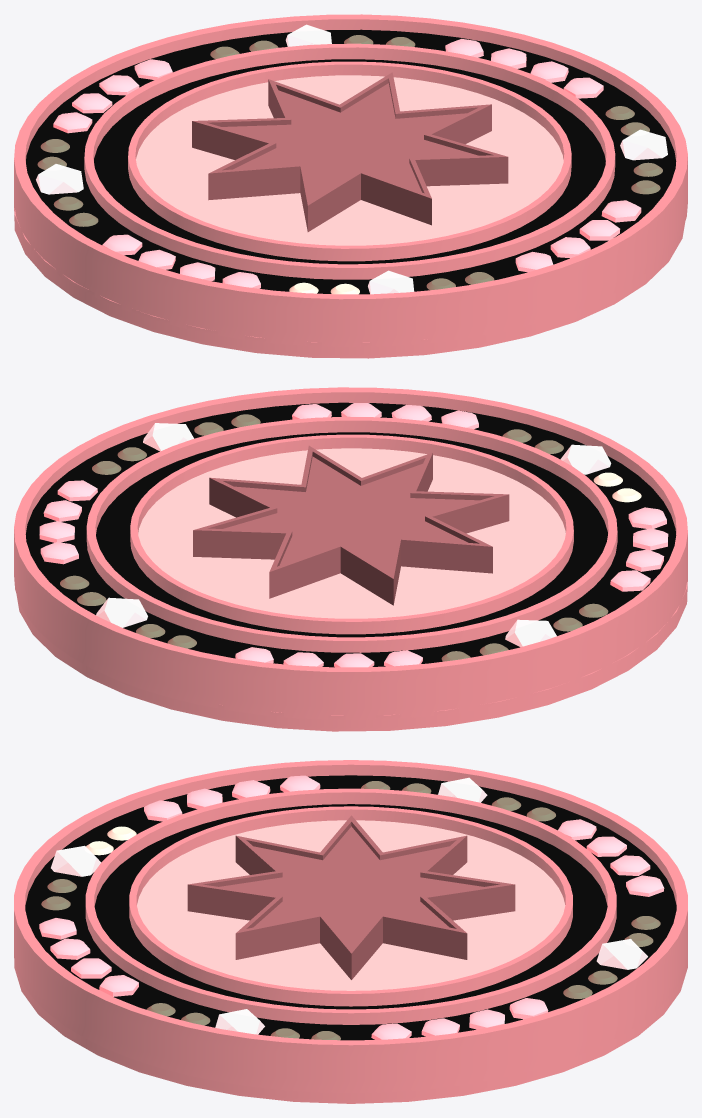
The model's file is coin.gltf.
3 renders of one model, top to bottom at view 1: azimuth 30°, elevation 25°; view 2: azimuth 150°, elevation 25°; view 3: azimuth 270°, elevation 25°, orthographic.
Visible parts, largest first — view 1: Tube (×3), Cylinder, Boolean, 바닥, Cylinder.2, Cube.4, Cube.5, Cube.7, Cube.6, Cylinder.30, Cylinder.29, Cylinder.6 (+11 smaller); view 2: Tube (×3), Cylinder, Boolean, 바닥, Cylinder.2, Cube.6, Cube.7, Cube.5, Cube.4, Cylinder.7, Cylinder.5, Cylinder.10 (+6 smaller); view 3: Tube (×3), Cylinder, Boolean, 바닥, Cylinder.2, Cube.6, Cube.7, Cube.4, Cube.5, Cylinder.30, Cylinder.29, Cylinder.28 (+12 smaller).
Boxes of the visible parts, left/top/right/bottom form: Tube (×3): left=14, top=14, right=687, bottom=346; Cylinder: left=26, top=29, right=676, bottom=294; Boolean: left=192, top=72, right=508, bottom=231; 바닥: left=136, top=75, right=563, bottom=245; Cylinder.2: left=14, top=208, right=685, bottom=358; Cube.4: left=620, top=129, right=667, bottom=160; Cube.5: left=36, top=164, right=83, bottom=194; Cube.7: left=368, top=270, right=414, bottom=294; Cube.6: left=285, top=24, right=331, bottom=46; Cylinder.30: left=601, top=200, right=641, bottom=222; Cylinder.29: left=579, top=220, right=620, bottom=240; Cylinder.6: left=563, top=77, right=603, bottom=98; Tube (×3): left=14, top=387, right=687, bottom=719; Cylinder: left=25, top=402, right=676, bottom=667; Boolean: left=193, top=445, right=509, bottom=605; 바닥: left=138, top=448, right=565, bottom=618; Cylinder.2: left=16, top=581, right=687, bottom=731; Cube.6: left=96, top=597, right=147, bottom=627; Cube.7: left=560, top=444, right=611, bottom=474; Cube.5: left=505, top=619, right=556, bottom=647; Cube.4: left=143, top=423, right=193, bottom=451; Cylinder.7: left=610, top=570, right=650, bottom=591; Cylinder.5: left=40, top=542, right=78, bottom=564; Cylinder.10: left=628, top=507, right=666, bottom=528; Tube (×3): left=14, top=760, right=687, bottom=1092; Cylinder: left=25, top=775, right=676, bottom=1040; Boolean: left=187, top=815, right=515, bottom=979; 바닥: left=137, top=820, right=565, bottom=990; Cylinder.2: left=14, top=958, right=687, bottom=1103; Cube.6: left=596, top=939, right=647, bottom=969; Cube.7: left=51, top=845, right=100, bottom=876; Cube.4: left=215, top=1009, right=264, bottom=1034; Cube.5: left=438, top=777, right=487, bottom=802; Cylinder.30: left=99, top=975, right=138, bottom=996; Cylinder.29: left=71, top=958, right=111, bottom=978; Cylinder.28: left=50, top=938, right=90, bottom=959.
Size of the model in its own units: 3.08 by 0.4006 by 3.08.
